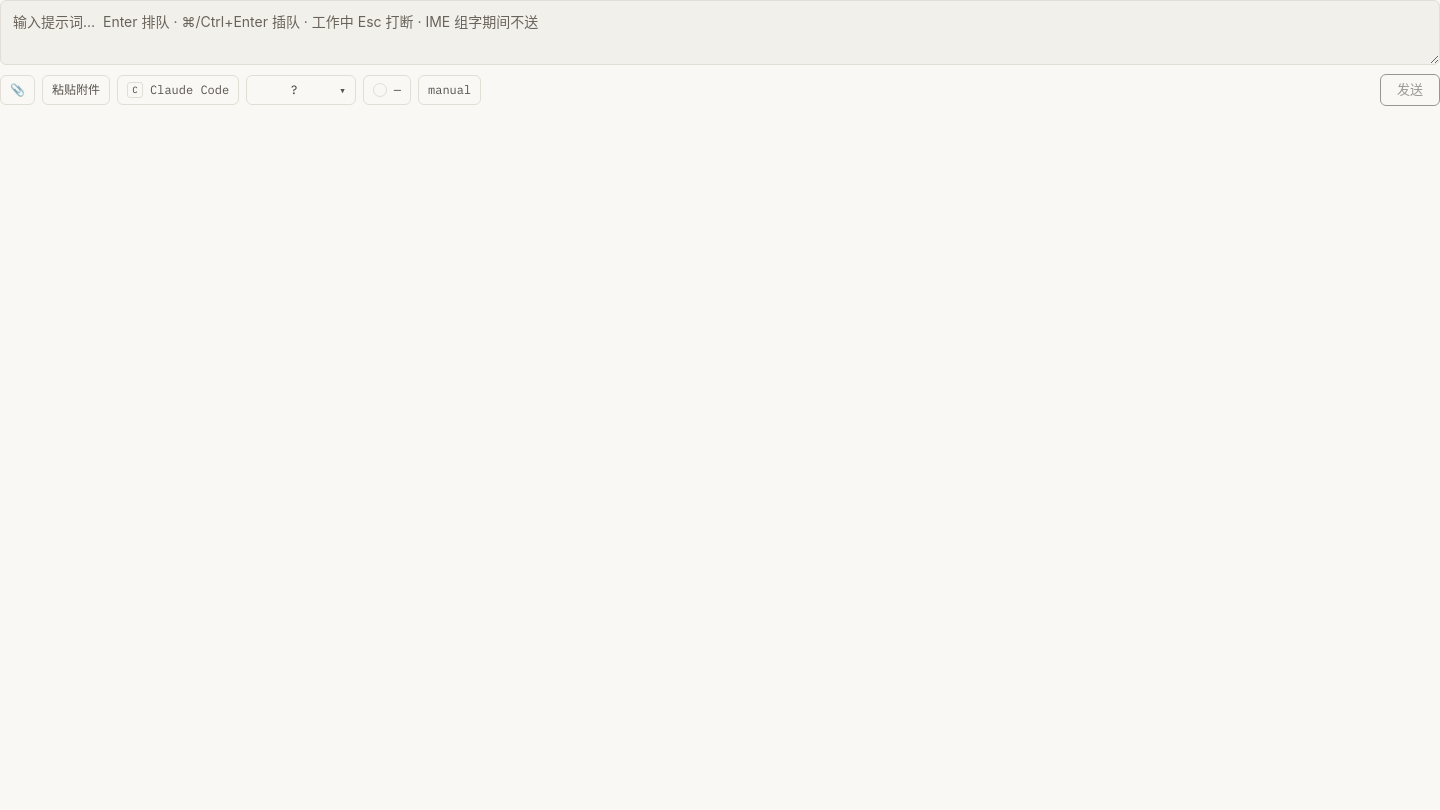
Composer context usage chip › renders Unknown, never the carried percentage or ≈, when usage is unavailable
The width and height of the screenshot is (1440, 810).
Click the button with test id "context-chip" at [387, 90], box [363,75,411,105]
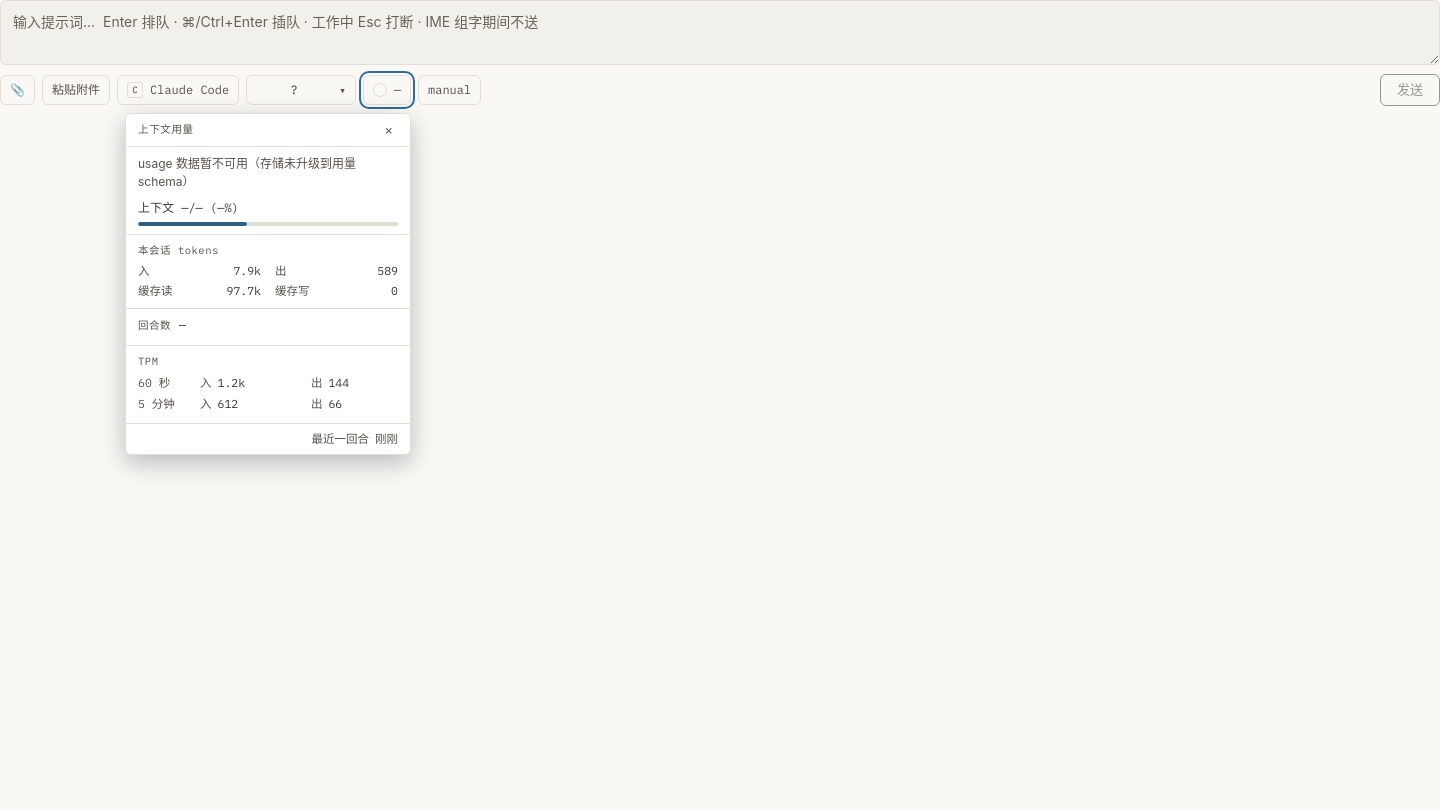
Expected: the text with test id "context-usage-turns" reads "—", [179,317,186,332]
Expected: the text with test id "context-usage-empty-note" shows "暂不可用", [138,156,356,189]
Expected: the text with test id "context-usage-headline" shows "—/— (—%)", [181,200,239,215]
